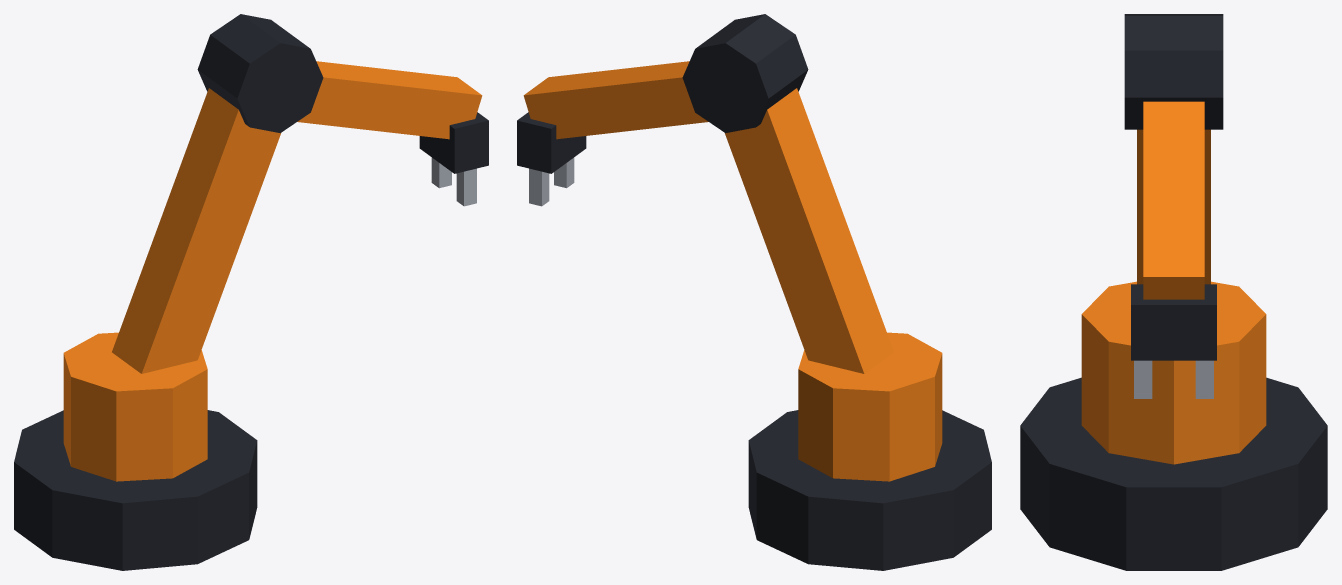
File: robot_arm.glb
The picture shows the model from 3 angles, left to right: view 1: azimuth 30°, elevation 25°; view 2: azimuth 150°, elevation 25°; view 3: azimuth 270°, elevation 25°; orthographic projection. The views are drawn at different scales.
Parts seen in each view (by area): view 1: robot_arm; view 2: robot_arm; view 3: robot_arm.
Boxes of the visible parts, <box> form: robot_arm: <box>14,14,488,570</box>; robot_arm: <box>517,14,991,570</box>; robot_arm: <box>1020,14,1327,570</box>.
Bounding box in the file's own units: 1.02 × 1.02 × 0.5.
